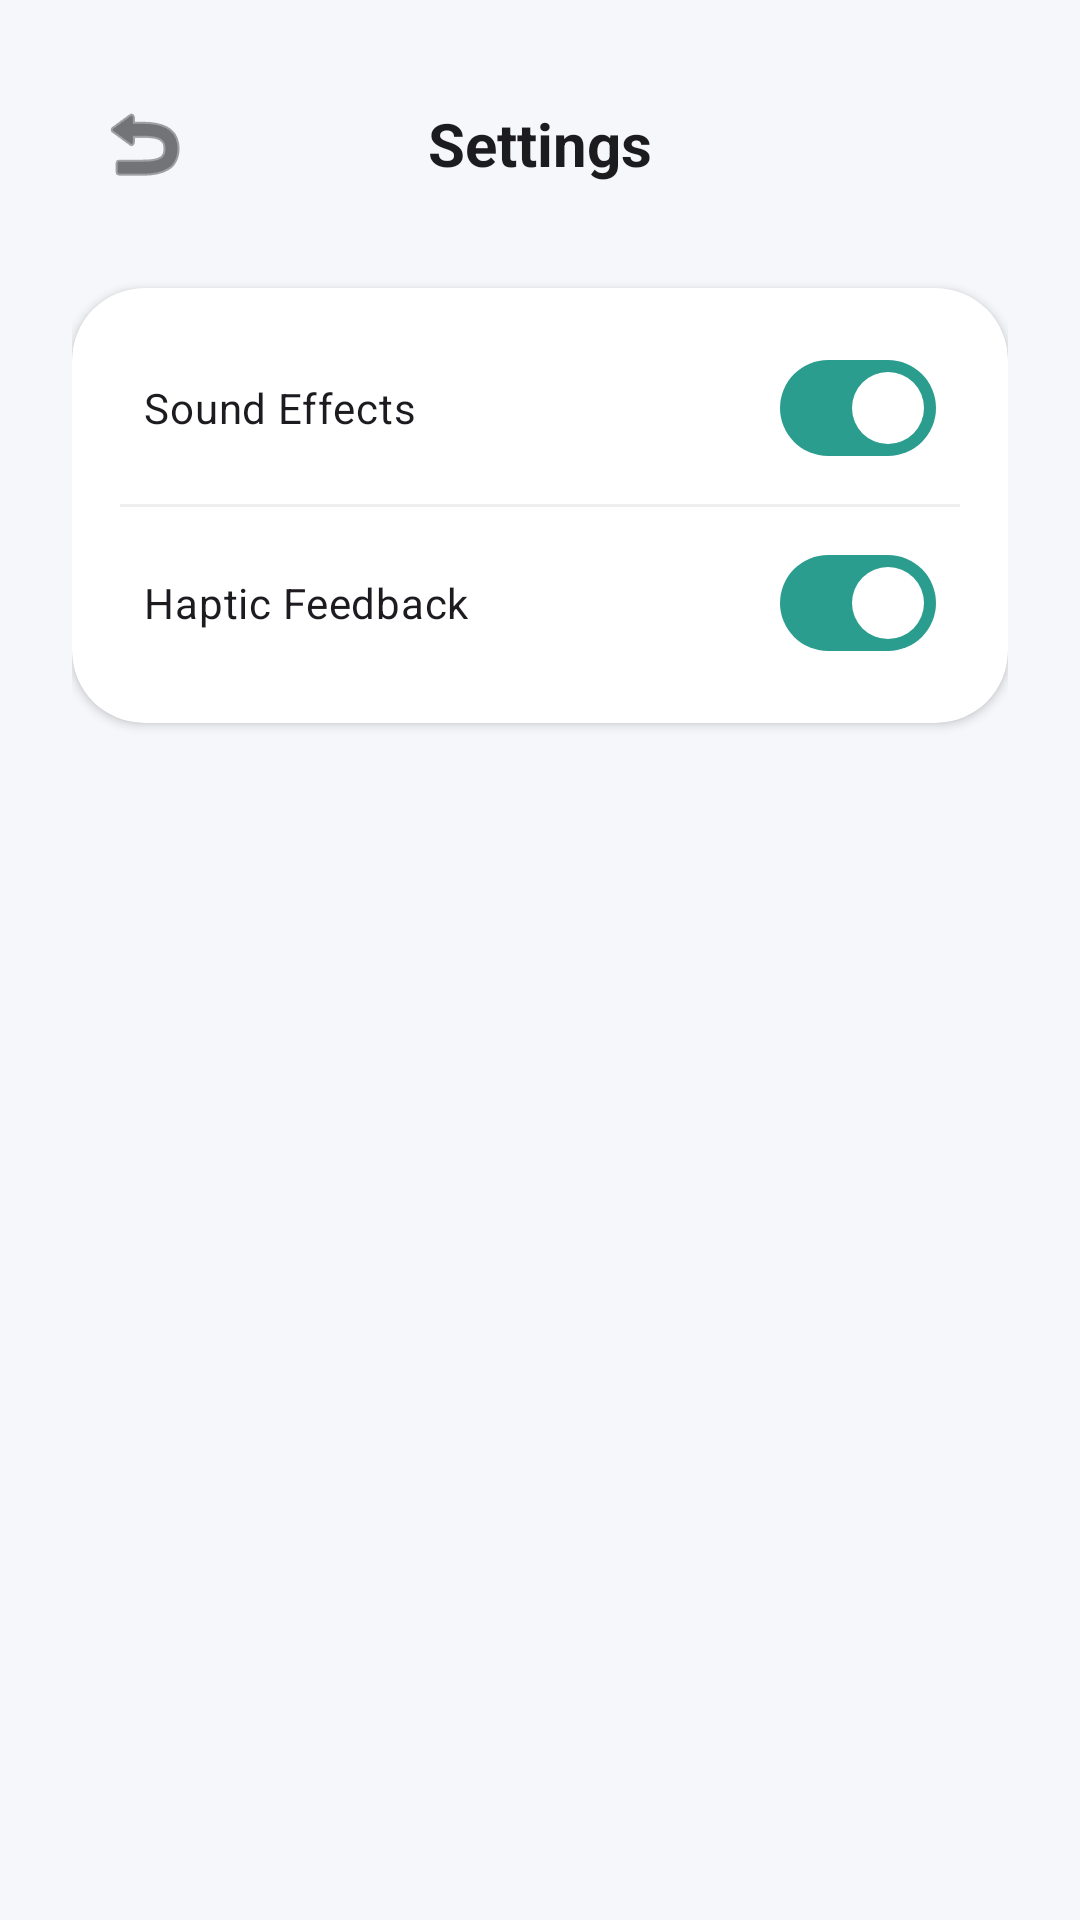

Named icons in this screenshot (1080px x 1920px) and their centers, [x,y]:
revert: [145,144]
